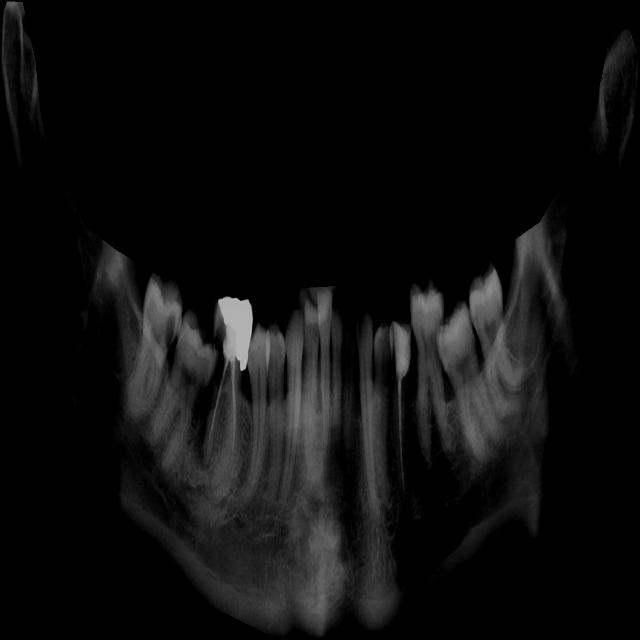mandibula: (0, 1, 640, 640)
